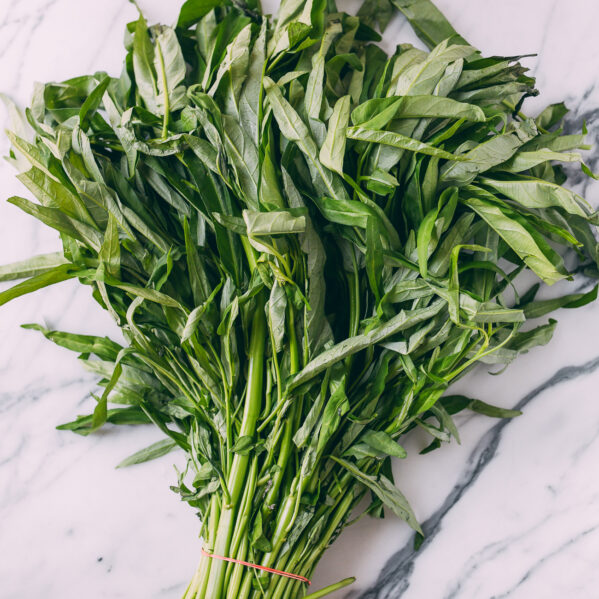Kangkung: (49, 25, 541, 541)
